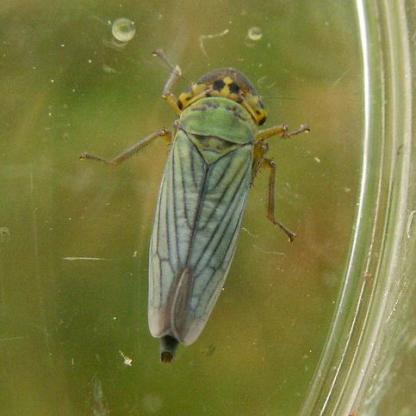Green-Leafhopper: (106, 43, 310, 358)
